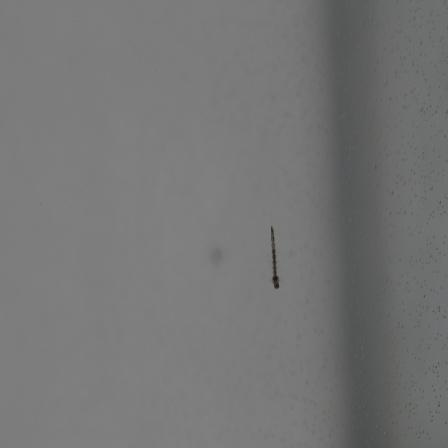Jentik-Nyamuk: (264, 222, 287, 289)
